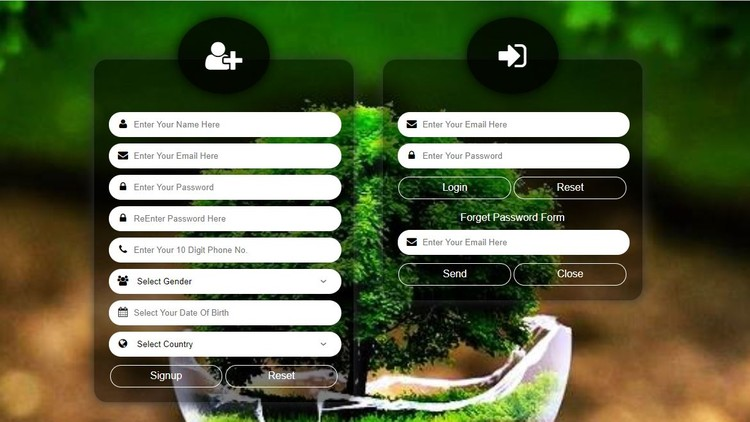_form_: (75, 100, 416, 416), (369, 58, 645, 367)
button: (398, 174, 512, 201), (397, 261, 512, 287), (109, 363, 223, 389), (226, 363, 340, 389), (514, 175, 628, 201), (515, 261, 628, 287)
field: (108, 234, 343, 265), (107, 141, 343, 171), (107, 109, 342, 139), (108, 330, 343, 360), (107, 204, 343, 233), (109, 173, 344, 202), (108, 267, 343, 296), (396, 141, 630, 170), (397, 228, 630, 257), (108, 299, 343, 327), (396, 110, 630, 138)
